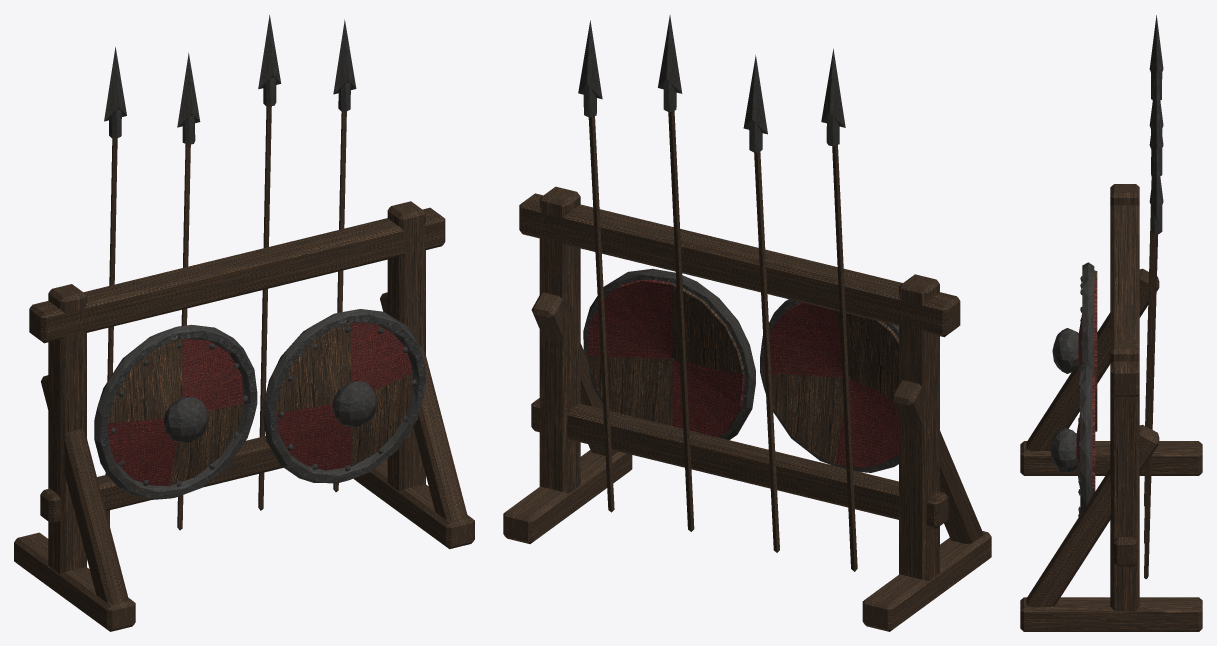
File: barrosan_muster_rack_lod1.glb
3 renders of one model, left to right at view 1: azimuth 30°, elevation 25°; view 2: azimuth 150°, elevation 25°; view 3: azimuth 270°, elevation 25°, orthographic. The views are drawn at different scales.
Visible parts, largest first — view 1: barrosan_muster_rack; view 2: barrosan_muster_rack; view 3: barrosan_muster_rack.
Part boxes in pixels (x1,y1,x2,y2): barrosan_muster_rack: [14, 15, 474, 631]; barrosan_muster_rack: [503, 15, 991, 631]; barrosan_muster_rack: [1020, 15, 1202, 631].
Bounding box in the file's own units: 2.1 × 2.56 × 0.87.
Materials: 3 (3 with a texture image).
